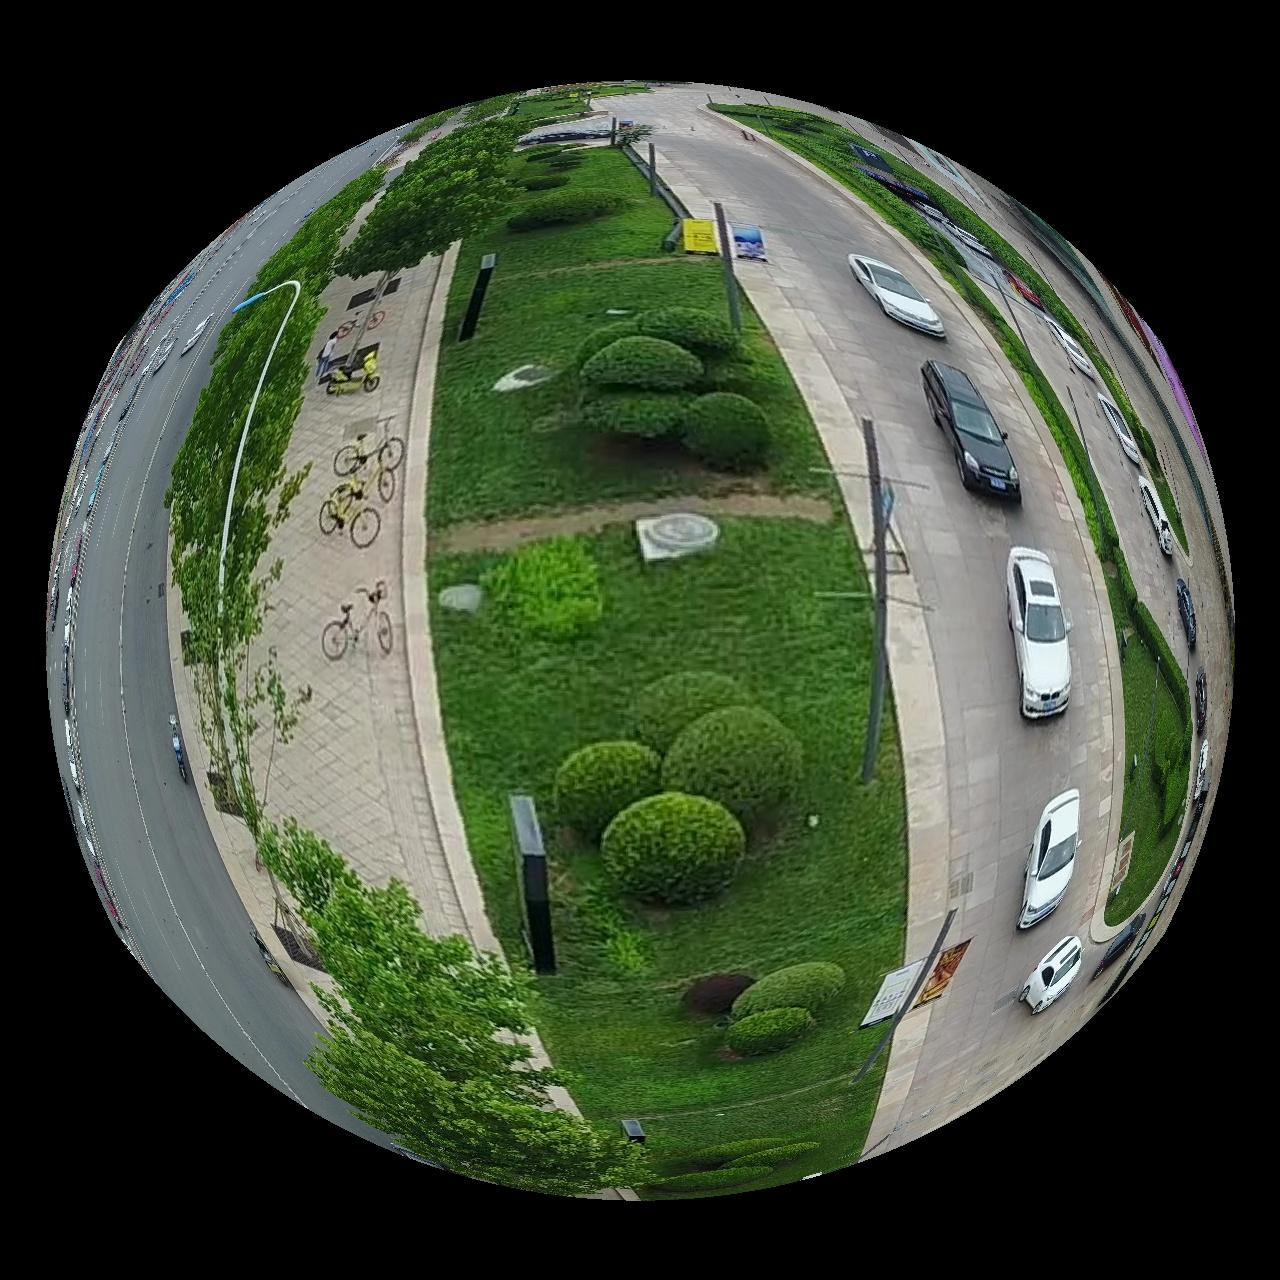cars: (922, 359, 1021, 503), (1009, 546, 1074, 720), (1019, 790, 1082, 931), (849, 256, 947, 338), (321, 580, 392, 660)
trees: (427, 143, 908, 1198), (260, 821, 632, 1196)
